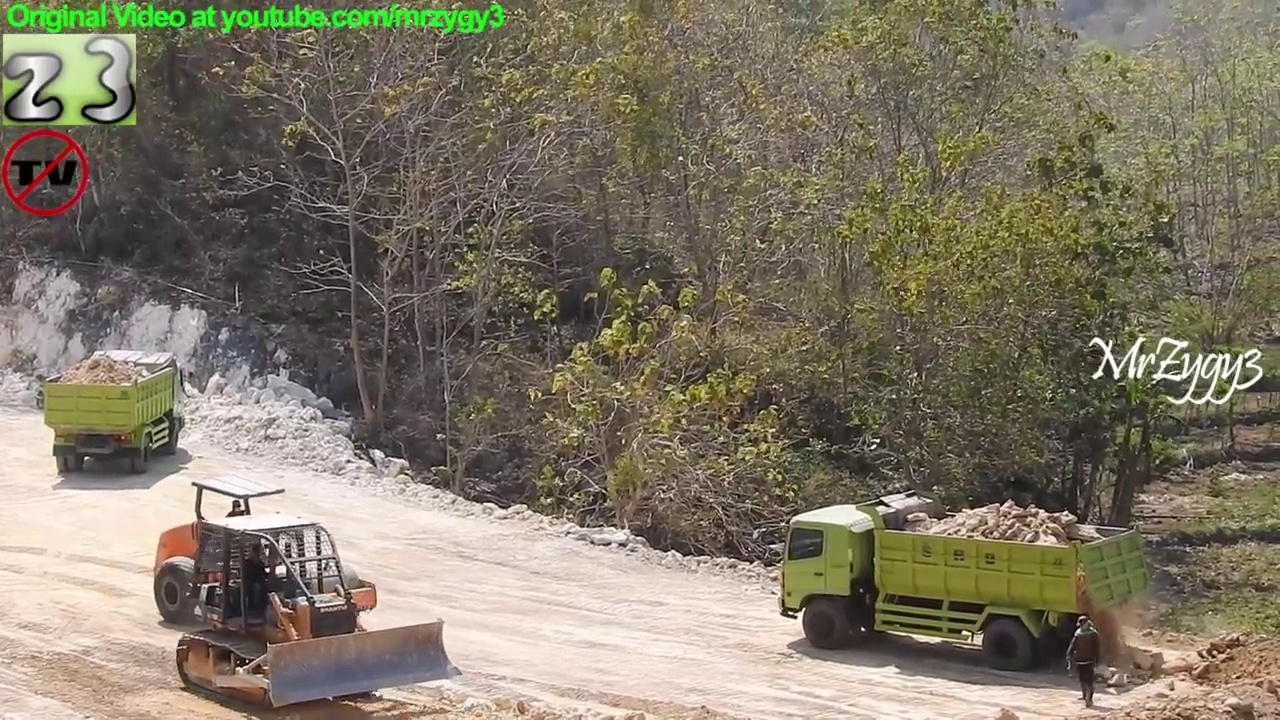bulldozer: (171, 513, 468, 713)
compactor: (148, 474, 385, 643)
truck: (762, 485, 1160, 678), (36, 347, 195, 482)
